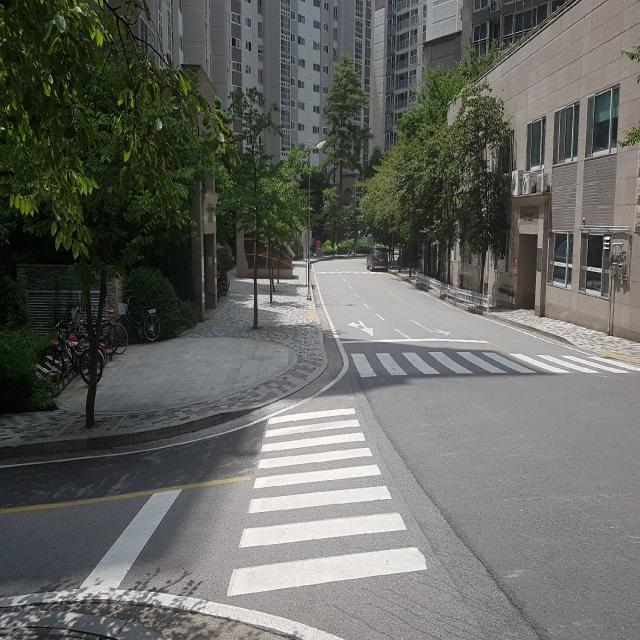횡단보도: (225, 403, 429, 600), (342, 331, 637, 383)
